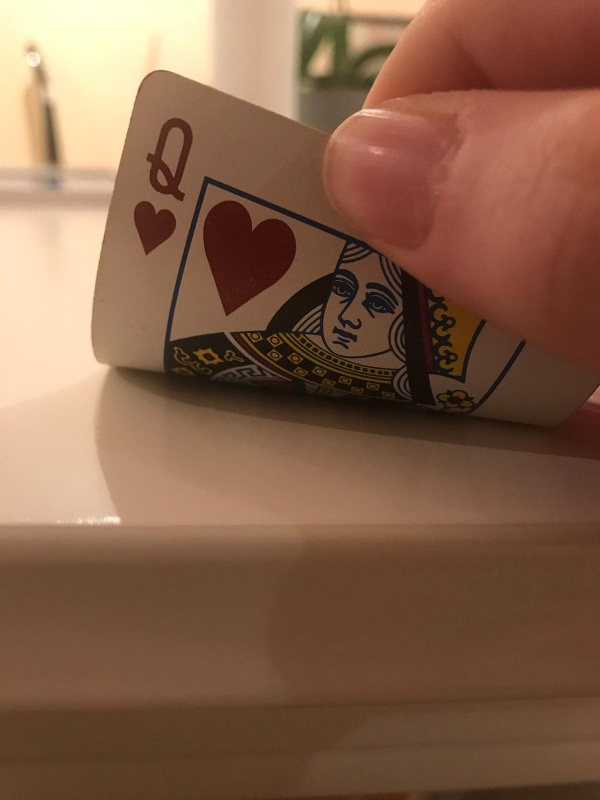Hq: (132, 101, 190, 257)
